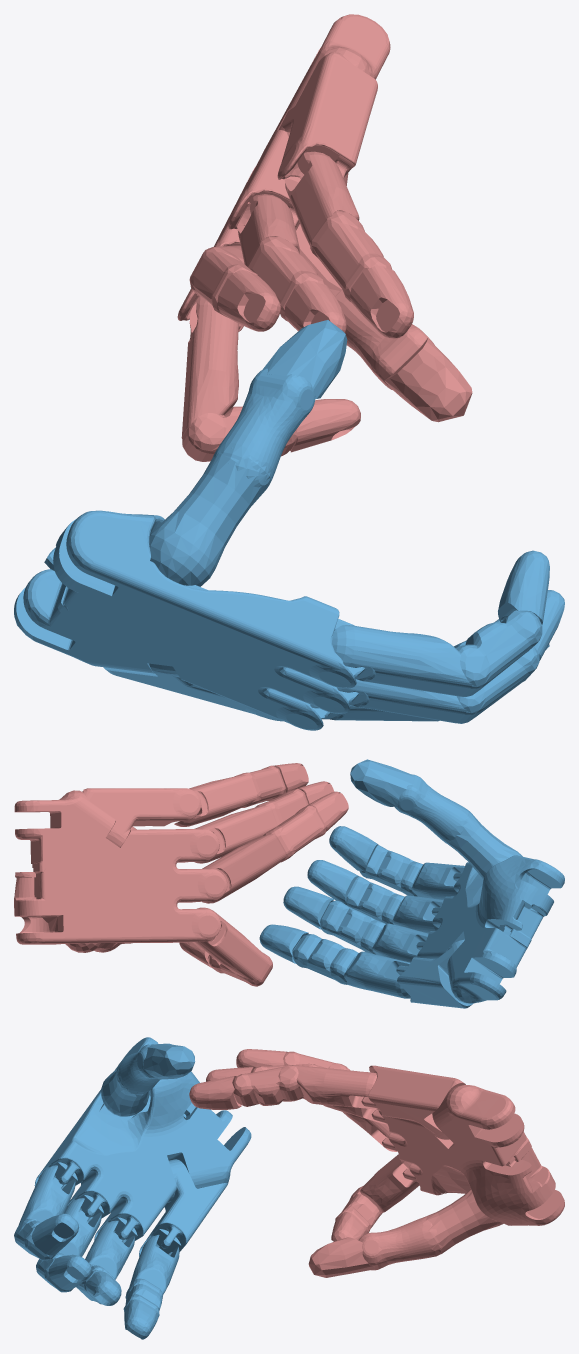
Rendered from TissueBox_pc.glb.
The picture shows the model from 3 angles, top to bottom: view 1: azimuth 30°, elevation 25°; view 2: azimuth 150°, elevation 25°; view 3: azimuth 270°, elevation 25°; orthographic projection. The views are drawn at different scales.
Parts seen in each view (by area): view 1: geom_1, geom_2; view 2: geom_2, geom_1; view 3: geom_2, geom_1.
Boxes of the visible parts, x1,y1,x2,y2 form: geom_1: [14, 320, 564, 730]; geom_2: [177, 14, 472, 461]; geom_2: [14, 763, 348, 986]; geom_1: [259, 759, 564, 1008]; geom_2: [189, 1049, 564, 1277]; geom_1: [14, 1037, 251, 1339].
Size of the model in its own units: 0.2368 by 0.1686 by 0.2934.
